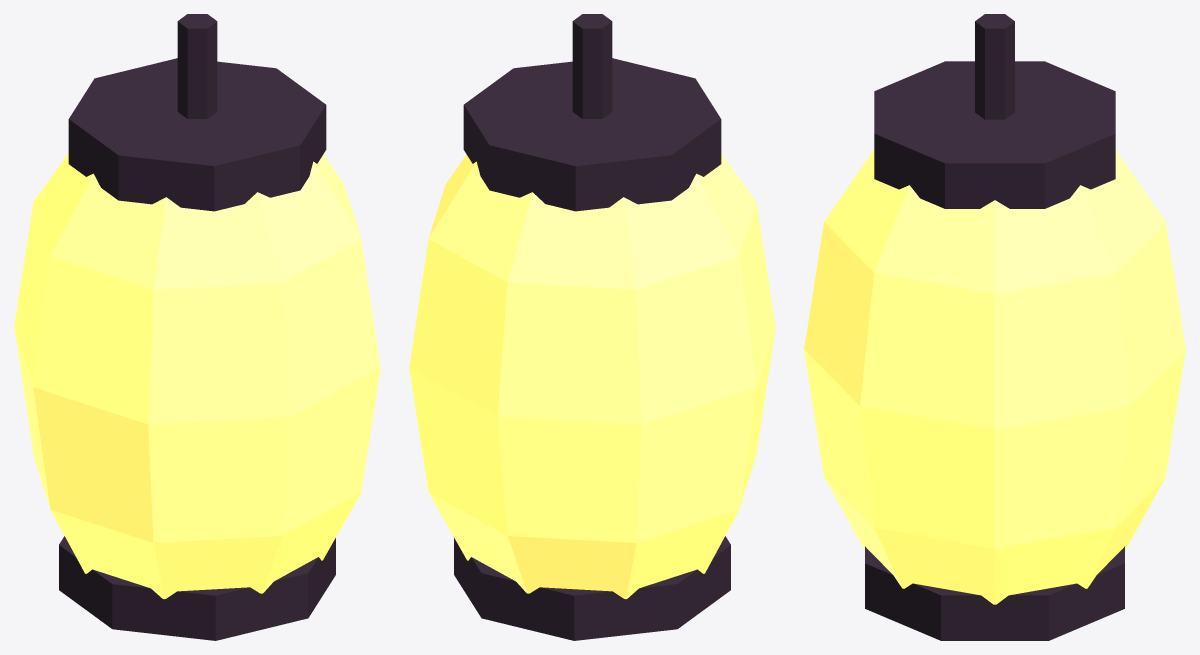
File: lantern.glb
The picture shows the model from 3 angles, left to right: view 1: azimuth 30°, elevation 25°; view 2: azimuth 150°, elevation 25°; view 3: azimuth 270°, elevation 25°; orthographic projection.
Parts seen in each view (by area): view 1: Shade, Cap, Base, Hook; view 2: Shade, Cap, Base, Hook; view 3: Shade, Cap, Base, Hook.
Part boxes in pixels (bbox=[...]): Shade: bbox=[14, 153, 380, 599]; Cap: bbox=[68, 58, 326, 211]; Base: bbox=[59, 536, 335, 640]; Hook: bbox=[177, 14, 217, 118]; Shade: bbox=[409, 153, 775, 599]; Cap: bbox=[463, 58, 721, 211]; Base: bbox=[454, 536, 730, 640]; Hook: bbox=[572, 14, 612, 118]; Shade: bbox=[804, 149, 1185, 604]; Cap: bbox=[874, 61, 1115, 208]; Base: bbox=[865, 546, 1124, 640]; Hook: bbox=[975, 14, 1014, 119].
Bounding box in the file's own units: 0.38 × 0.66 × 0.38.
